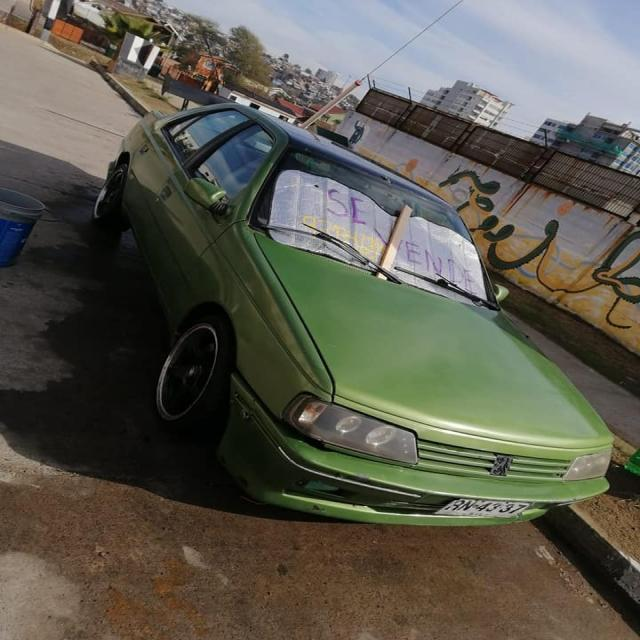patente: (431, 497, 533, 519)
